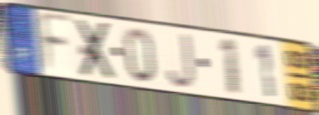0: (122, 26, 158, 86)
1: (219, 37, 244, 99), (254, 44, 278, 102)
F: (37, 10, 74, 76)
J: (165, 31, 197, 90)
X: (74, 18, 118, 82)
